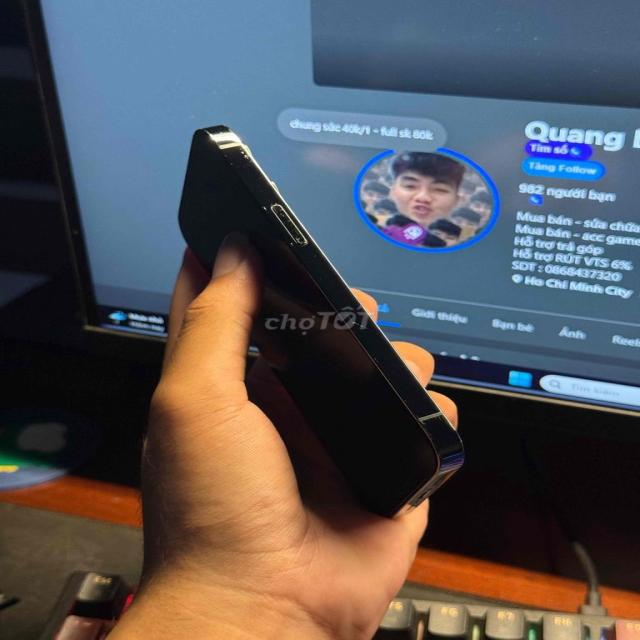scratch: (212, 132, 323, 262), (338, 300, 424, 406)
